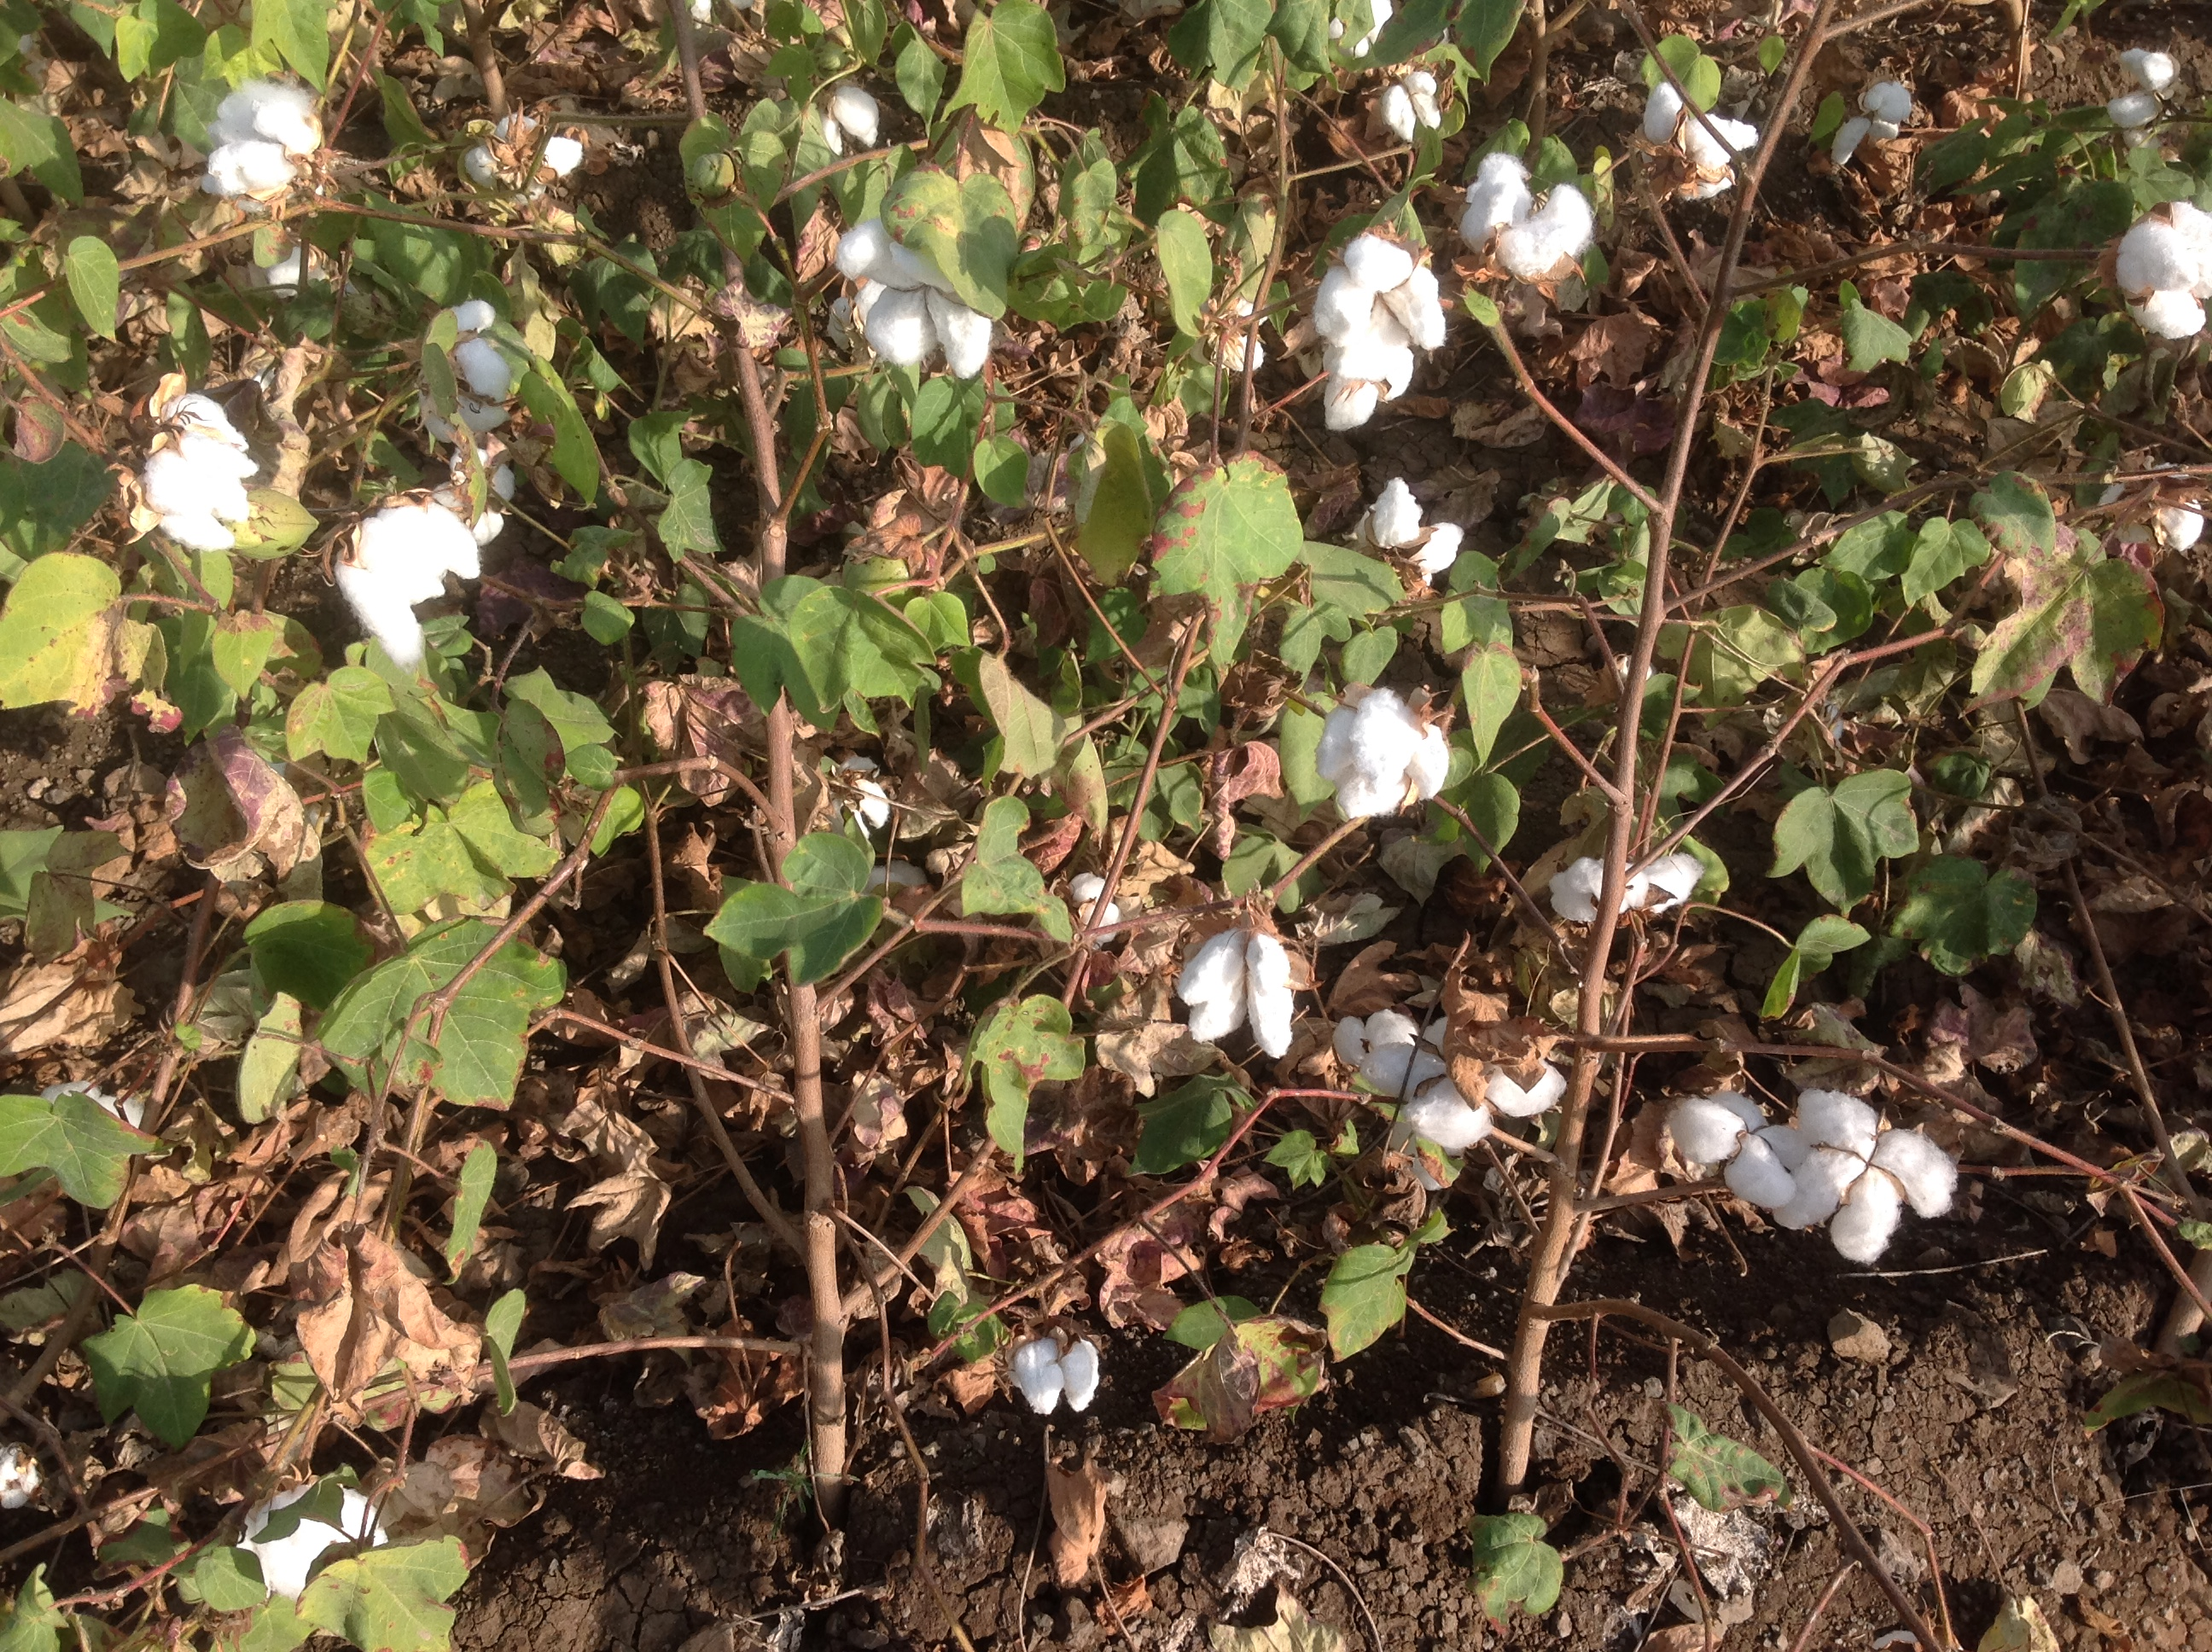cotton: (829, 200, 1017, 411), (1336, 1003, 1574, 1168), (1754, 1088, 1950, 1284), (324, 479, 488, 661), (1303, 243, 1452, 432), (1666, 1076, 1808, 1255), (127, 396, 260, 564), (224, 1475, 402, 1600), (1317, 481, 1476, 619), (1166, 906, 1296, 1071), (1457, 135, 1600, 279), (1308, 685, 1459, 821), (212, 82, 345, 206), (1528, 861, 1714, 944), (408, 304, 517, 444), (2111, 194, 2200, 359), (1624, 85, 1761, 191), (776, 83, 907, 174), (2103, 456, 2205, 569), (1001, 1326, 1122, 1418), (455, 116, 574, 200), (1351, 57, 1459, 142), (2103, 45, 2176, 149), (1832, 78, 1917, 147)
